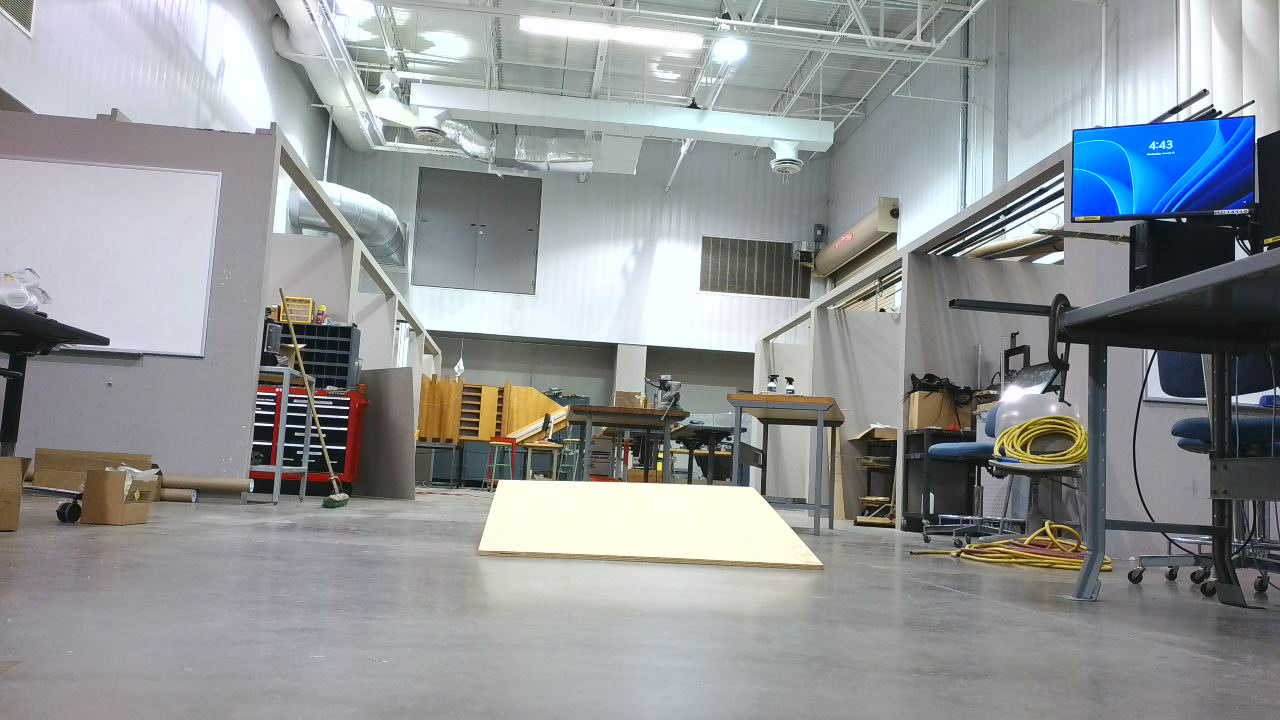ramp: (480, 479, 839, 577)
